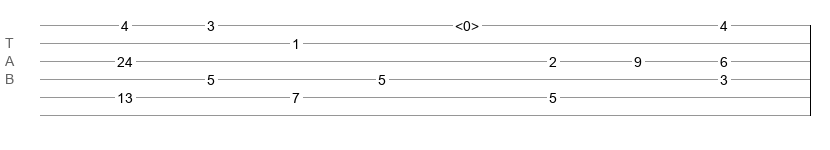1: (292, 36, 300, 46)
13: (117, 90, 133, 100)
2: (549, 54, 557, 64)
24: (117, 54, 133, 64)
3: (207, 18, 215, 28), (720, 72, 728, 82)
4: (121, 18, 129, 28), (720, 18, 728, 28)
5: (207, 72, 215, 82), (378, 72, 386, 82), (549, 90, 557, 100)
6: (720, 54, 728, 64)
7: (292, 90, 300, 100)
9: (634, 54, 642, 64)
harmonic: (455, 18, 479, 28)
